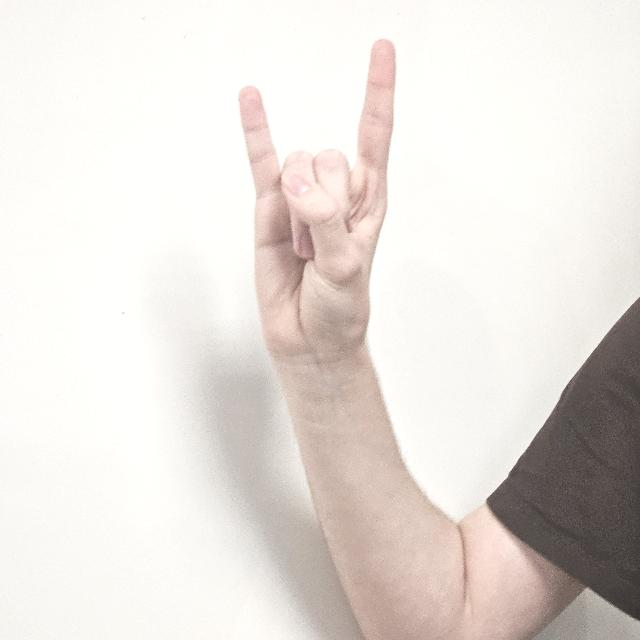L: (232, 38, 396, 384)
